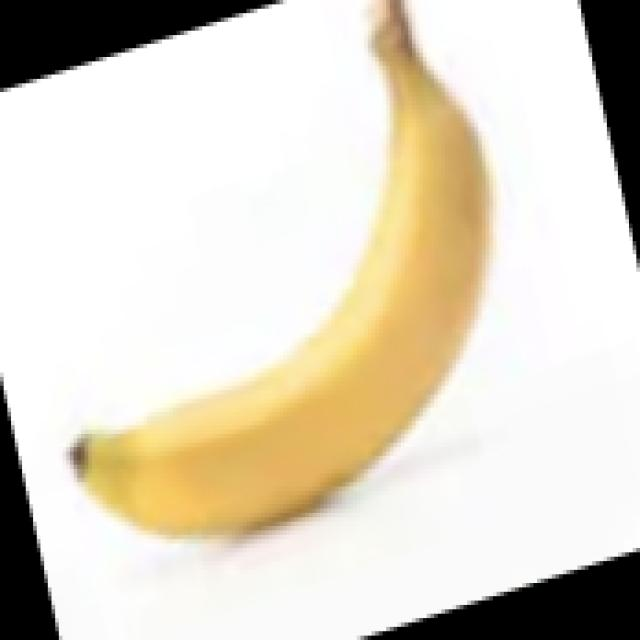god quality banana: (77, 0, 493, 533)
